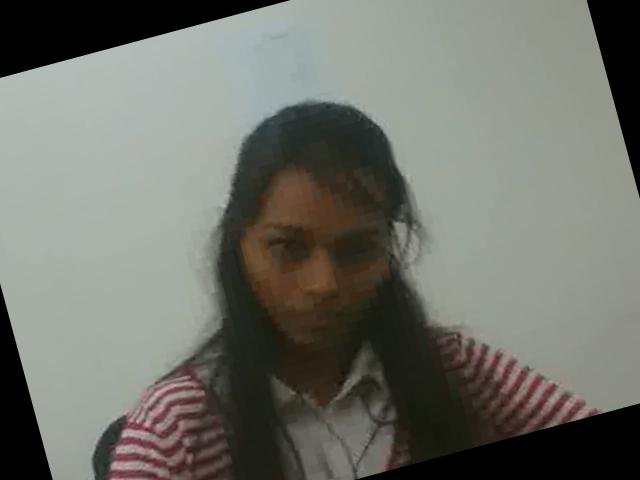bingung: (236, 167, 415, 366)
